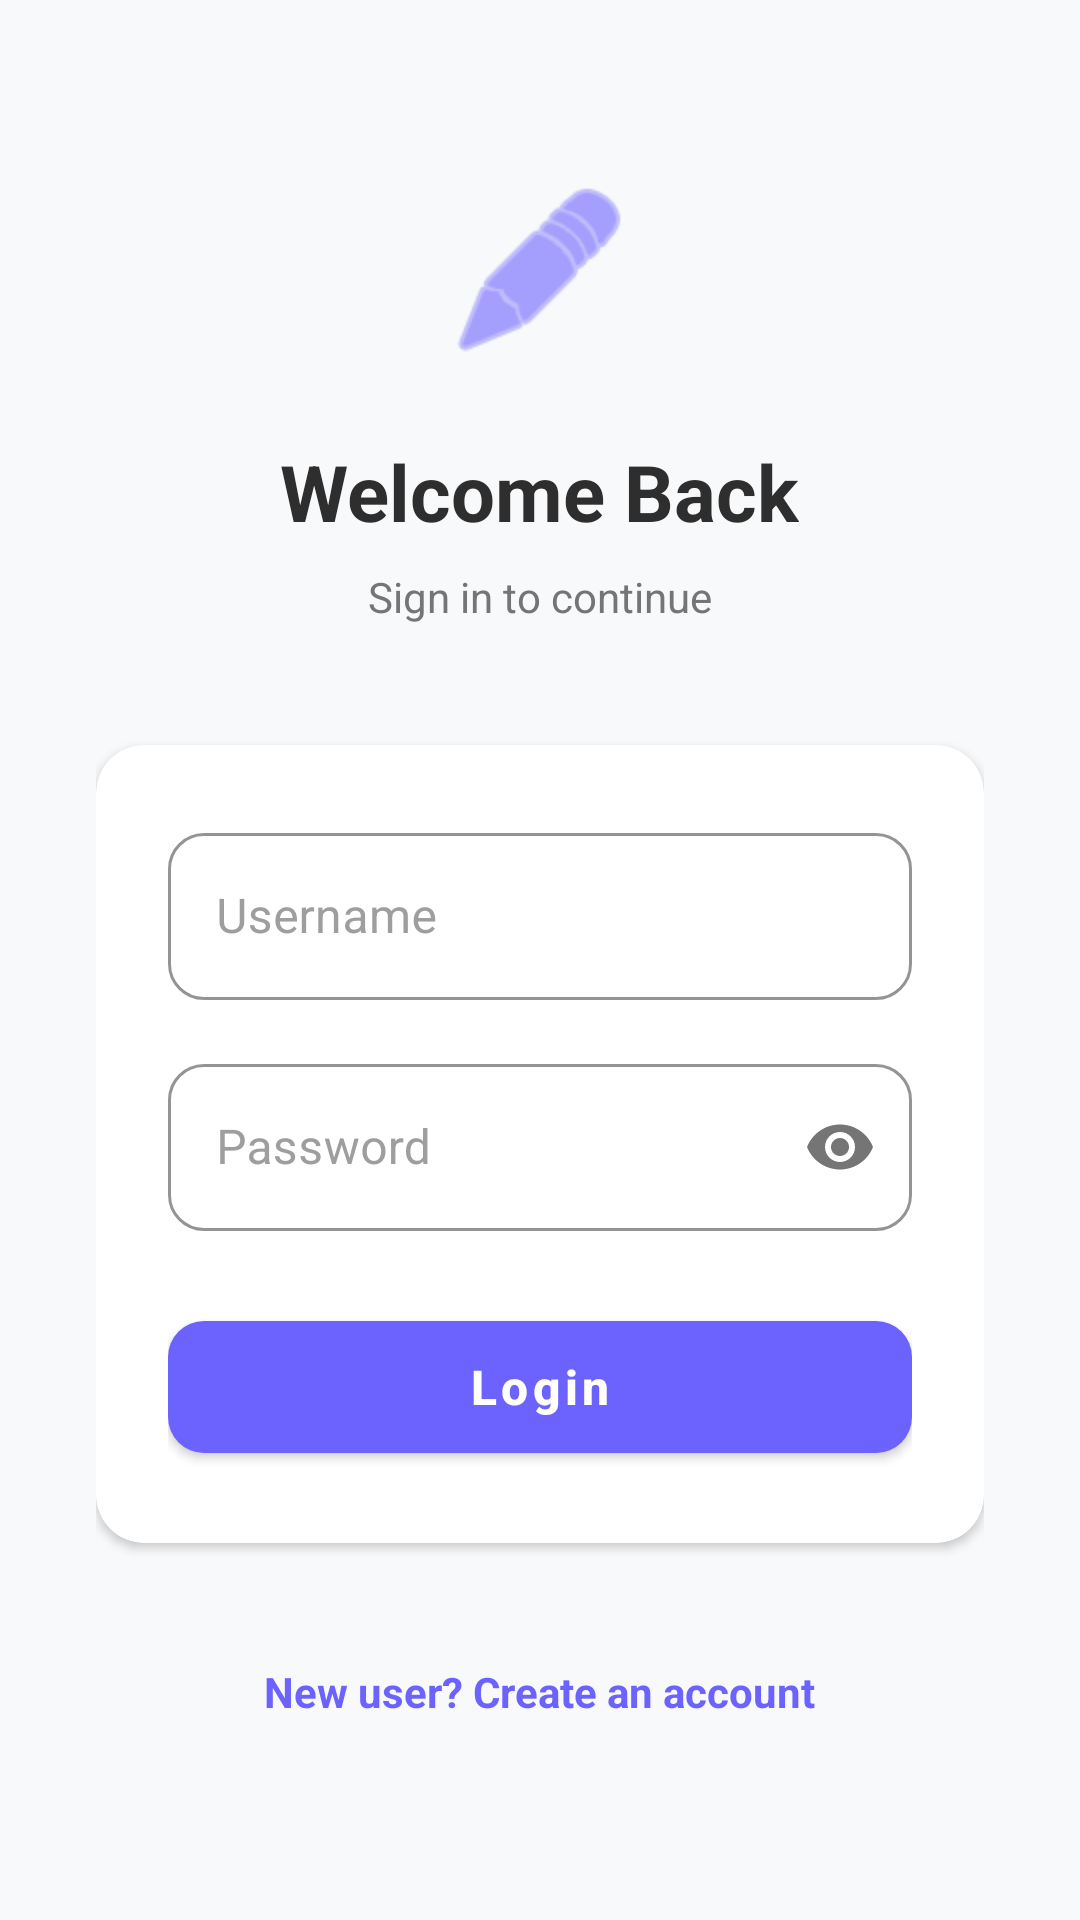

Icons on this 1080 x 1920 Android screen, each with its box as (x1=x1, y1=y1, x2=x2, y2=y2):
edit: (x1=458, y1=189, x2=620, y2=351)
